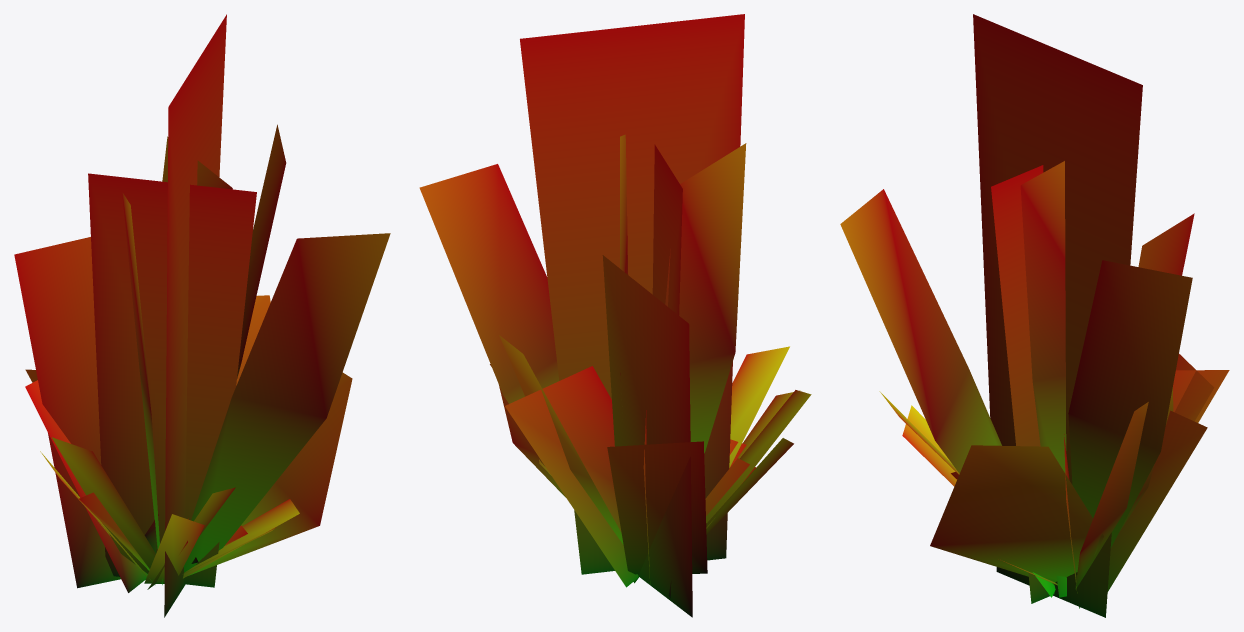
Rendered from Dead Broom Bush_LOD2_Var2_tlpjdhwia.fbx.
3 views of the same model, side by side, from view 1: azimuth 30°, elevation 25°; view 2: azimuth 150°, elevation 25°; view 3: azimuth 270°, elevation 25° (orthographic). The views are drawn at different scales.
Visible parts, largest first — view 1: _8094_Var2_LOD2; view 2: _8094_Var2_LOD2; view 3: _8094_Var2_LOD2.
Boxes of the visible parts, x1,y1,x2,y2 form: _8094_Var2_LOD2: (14, 14, 390, 617); _8094_Var2_LOD2: (419, 14, 811, 617); _8094_Var2_LOD2: (840, 14, 1229, 617).
Size of the model in its own units: 30.26 by 50.59 by 31.66.
